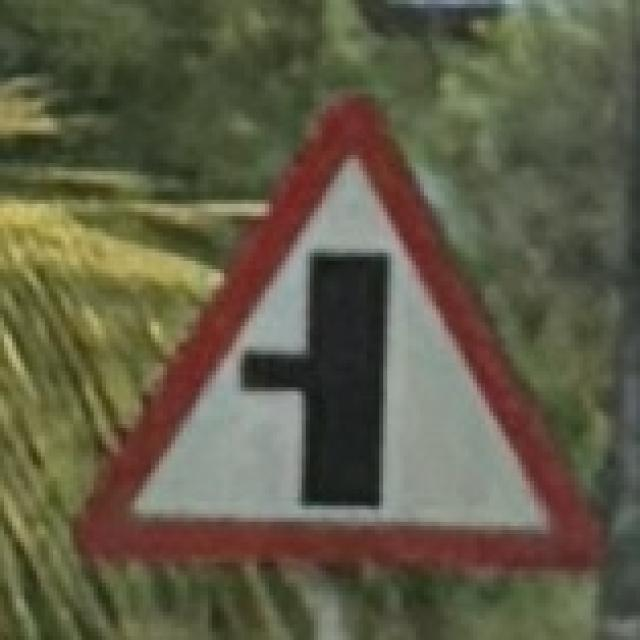SIDE_ROAD_LEFT: (51, 84, 616, 589)
